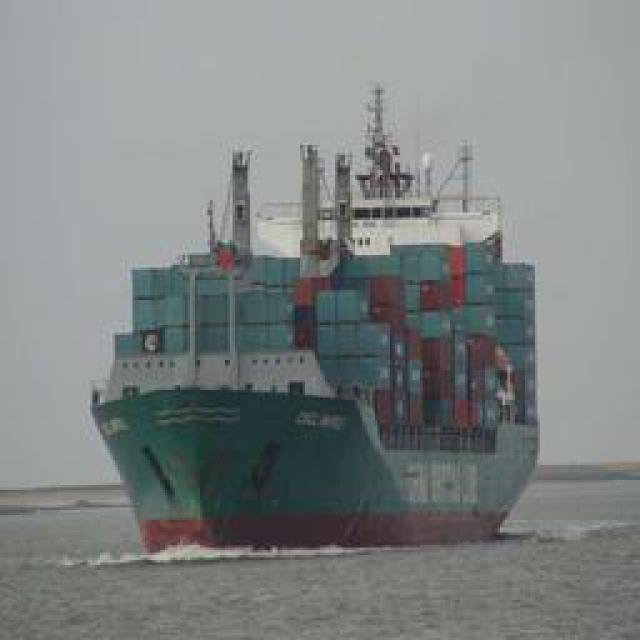Ship: (92, 75, 545, 538)
